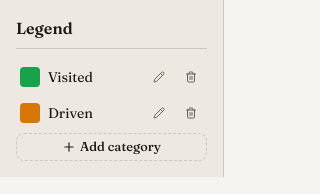
LegendPanel › shows inline confirmation when a remove button is clicked
Click the button named "remove visited" at (191, 77), box [179,65,203,89]
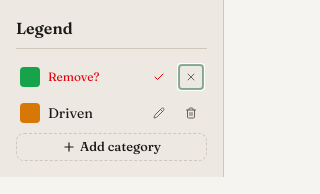
Result: the text "Remove?" is shown at [48,69,100,84]
Result: the button named "confirm remove visited" is shown at [147,65,171,89]
Result: the button named "cancel" is shown at [179,65,203,89]
